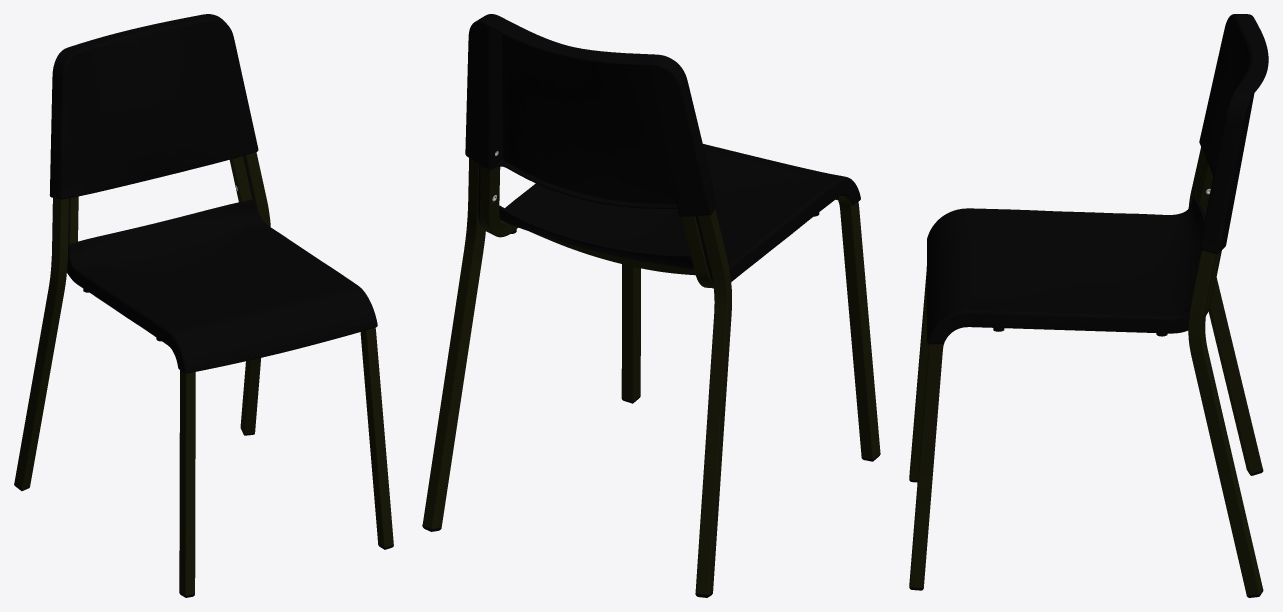
The picture shows the model from 3 angles, left to right: view 1: azimuth 30°, elevation 25°; view 2: azimuth 150°, elevation 25°; view 3: azimuth 270°, elevation 25°; orthographic projection. The views are drawn at different scales.
Parts seen in each view (by area): view 1: Mesh_0; view 2: Mesh_0; view 3: Mesh_0.
Boxes of the visible parts, x1,y1,x2,y2 form: Mesh_0: (14,14,393,597); Mesh_0: (422,14,880,597); Mesh_0: (909,14,1268,597).
Bounding box in the file's own units: 0.46 × 0.8 × 0.54.
1 material, 1 textured.
